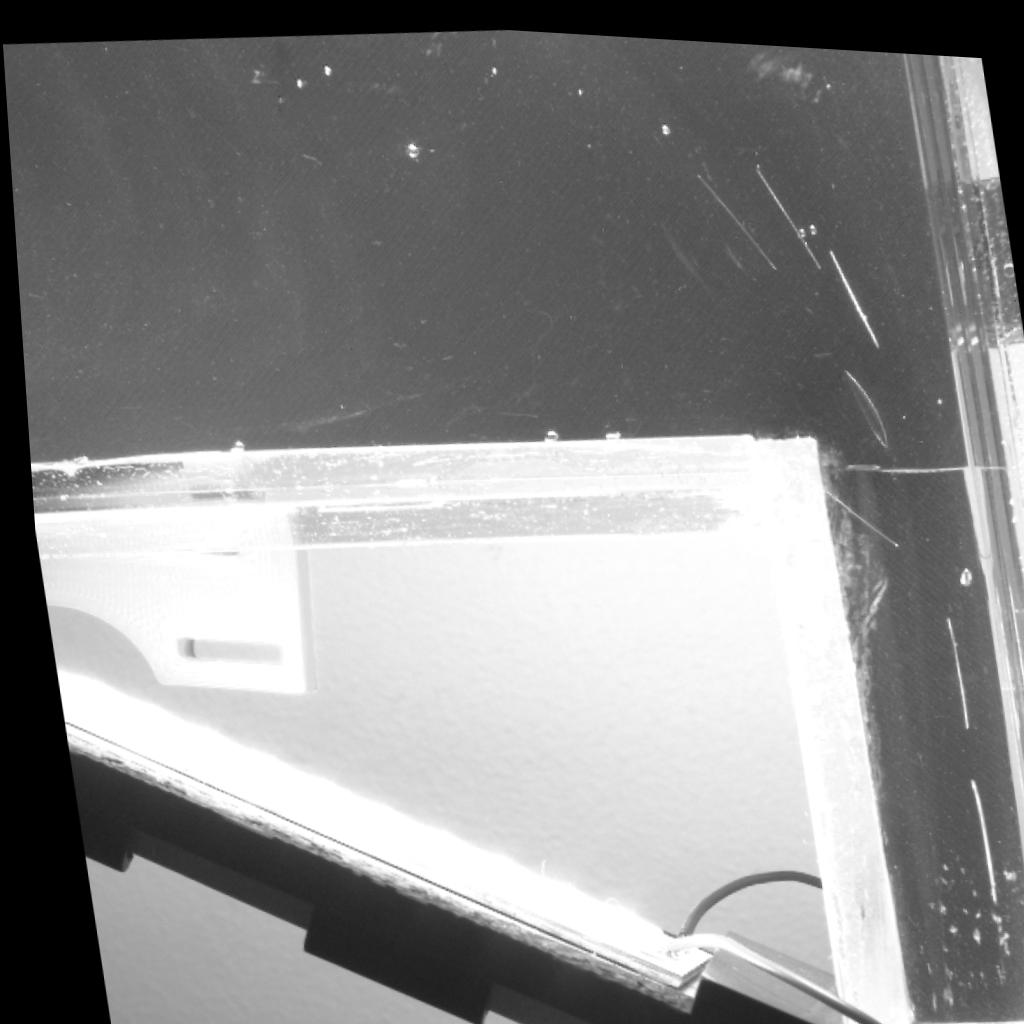Fiber: (694, 160, 775, 261), (749, 154, 820, 260), (813, 472, 894, 538), (824, 238, 878, 336), (957, 766, 990, 894), (933, 601, 962, 716)
